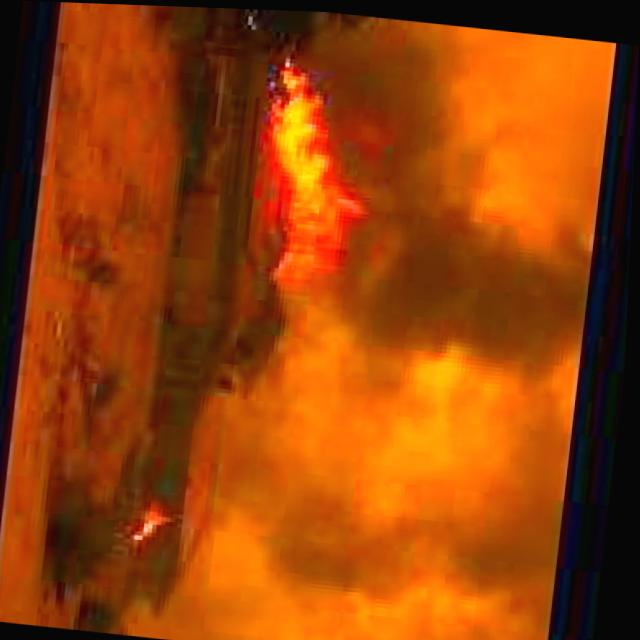smoke: (318, 73, 602, 384), (223, 417, 570, 629)
